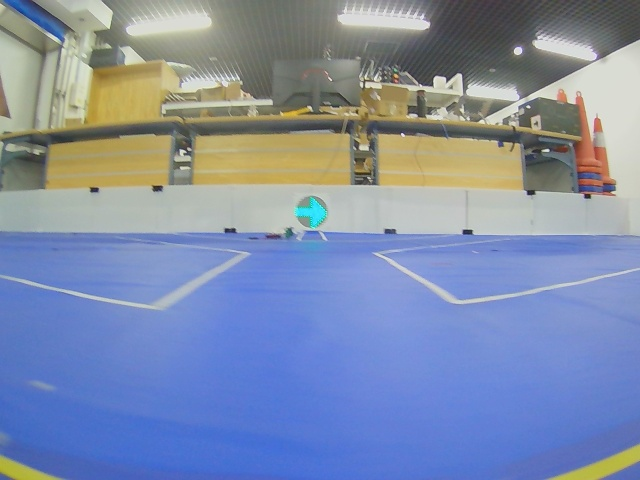right_green: (294, 196, 328, 229)
